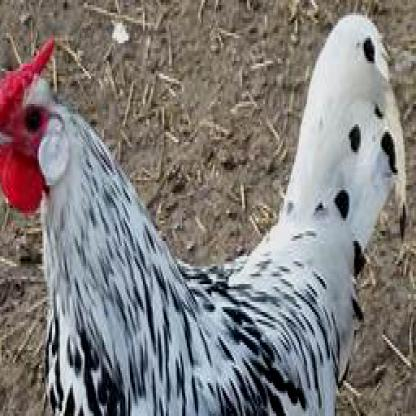chicken: (2, 15, 406, 414)
